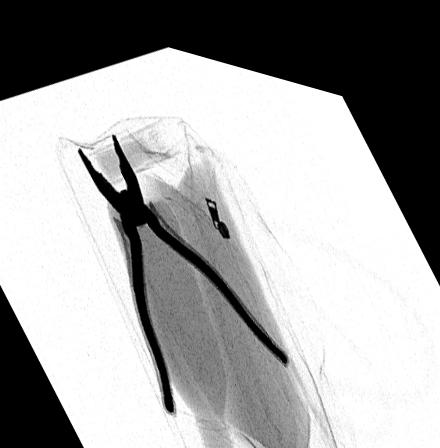Pliers: (75, 125, 287, 403)
